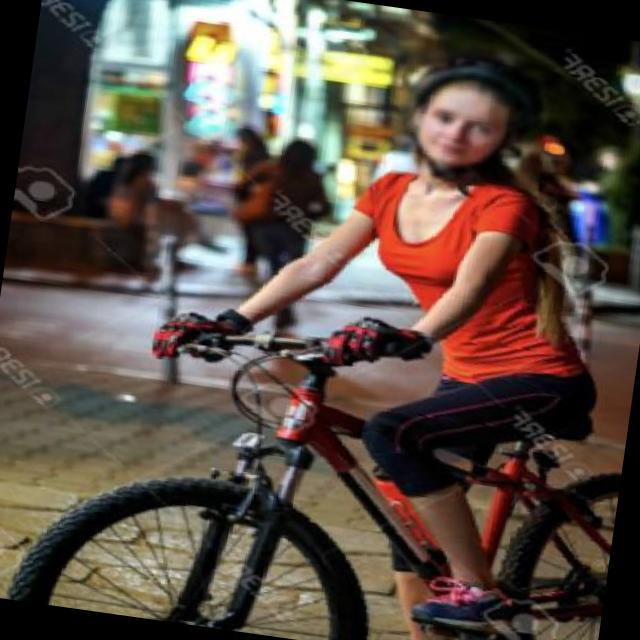With Helmet: (388, 40, 554, 195)
